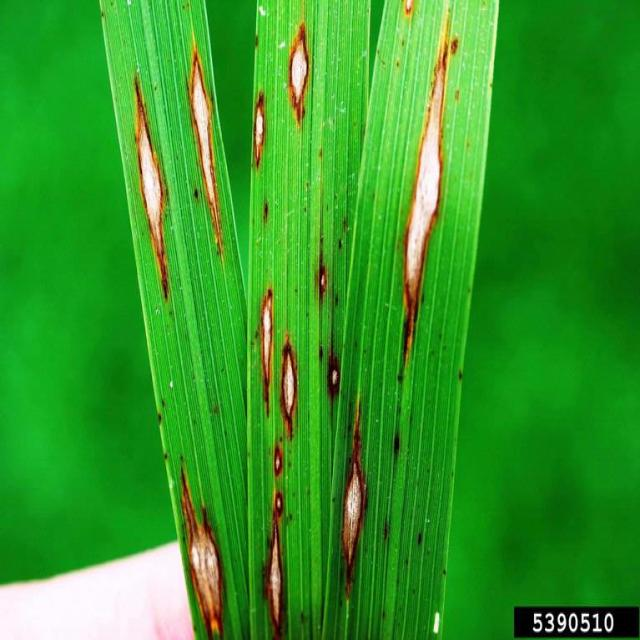Leaf blast: (400, 6, 454, 352), (169, 444, 233, 640), (128, 66, 174, 284), (180, 34, 226, 248), (332, 402, 378, 601), (280, 0, 318, 126), (265, 519, 290, 640), (280, 331, 304, 440), (257, 284, 276, 418), (255, 88, 269, 183), (326, 351, 344, 397), (311, 262, 331, 295), (270, 438, 284, 472), (259, 192, 272, 228), (272, 489, 287, 517)
